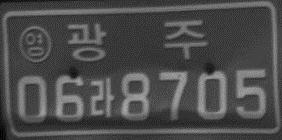0: (195, 69, 228, 121), (16, 74, 48, 125)
5: (234, 68, 267, 120)
6: (55, 73, 85, 123)
7: (158, 70, 188, 122)
8: (119, 72, 151, 121)
광주_D: (66, 18, 207, 60)
라: (88, 78, 115, 118)
영: (18, 25, 52, 63)
